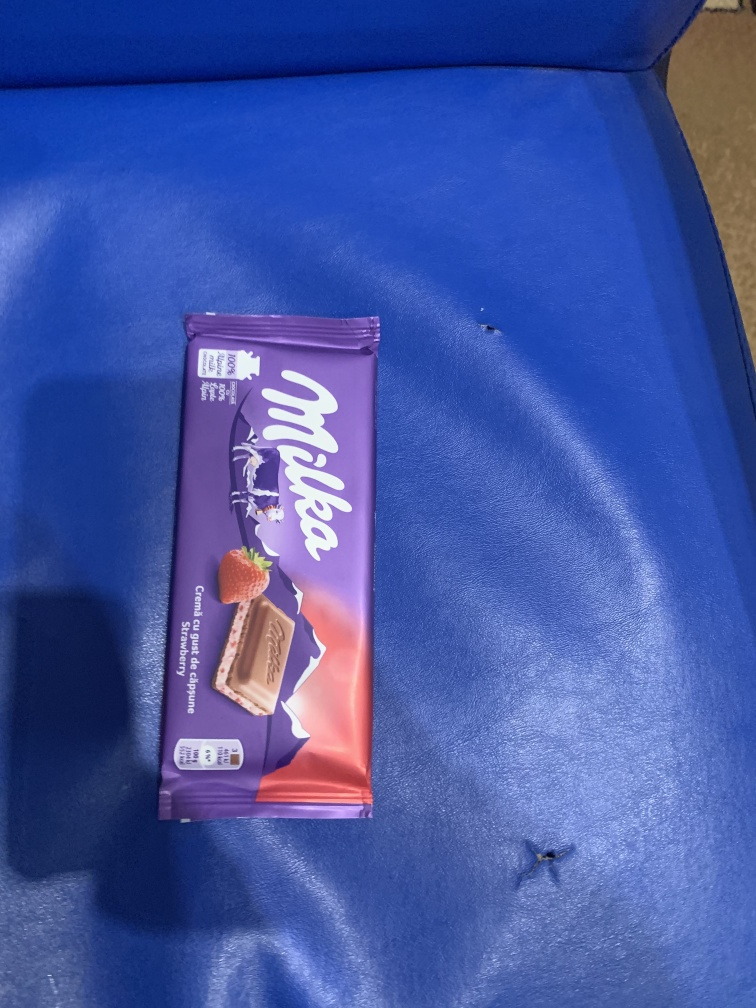milka: (150, 302, 390, 834)
